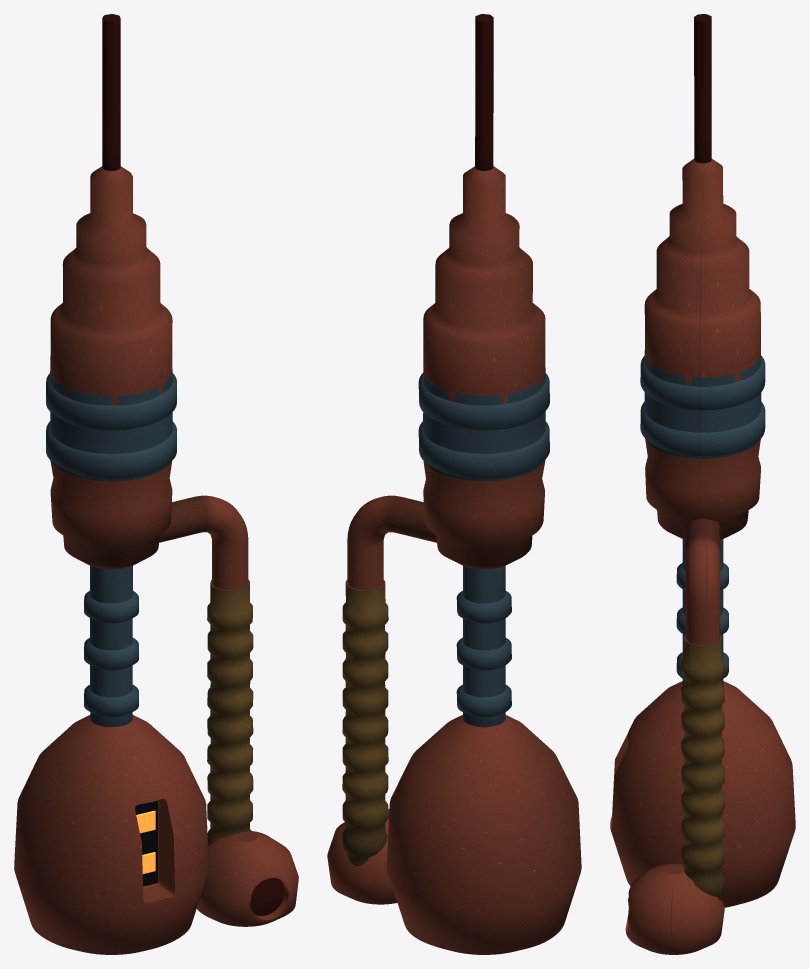
3 views of the same model, side by side, from view 1: azimuth 30°, elevation 25°; view 2: azimuth 150°, elevation 25°; view 3: azimuth 270°, elevation 25° (orthographic). The views are drawn at different scales.
Visible parts, largest first — view 1: AC15 main ground chamber, AC15 stepped coral receiver, AC15 ribbed ochre side column, AC15 right ground foot, AC15 supported coral return elbow, AC15 broad slate receiver belt, AC15 lower slate support, AC15 upper slate band 0, AC15 upper slate band 1, AC15 muted red needle, AC15 lower slate collar 1, AC15 lower slate collar 0 (+3 smaller); view 2: AC15 main ground chamber, AC15 stepped coral receiver, AC15 ribbed ochre side column, AC15 supported coral return elbow, AC15 broad slate receiver belt, AC15 lower slate support, AC15 upper slate band 1, AC15 upper slate band 0, AC15 right ground foot, AC15 muted red needle, AC15 lower slate collar 0, AC15 lower slate collar 1 (+1 smaller); view 3: AC15 stepped coral receiver, AC15 main ground chamber, AC15 ribbed ochre side column, AC15 right ground foot, AC15 supported coral return elbow, AC15 broad slate receiver belt, AC15 upper slate band 0, AC15 upper slate band 1, AC15 muted red needle, AC15 lower slate support.
Part boxes in pixels (box(x1,y1,x2,y2)): AC15 main ground chamber: box(14, 715, 208, 954); AC15 stepped coral receiver: box(50, 166, 172, 569); AC15 ribbed ochre side column: box(207, 579, 253, 844); AC15 right ground foot: box(196, 831, 298, 926); AC15 supported coral return elbow: box(159, 495, 248, 590); AC15 broad slate receiver belt: box(50, 369, 172, 481); AC15 lower slate support: box(90, 565, 132, 727); AC15 upper slate band 0: box(46, 421, 176, 478); AC15 upper slate band 1: box(46, 373, 176, 430); AC15 muted red needle: box(102, 14, 120, 170); AC15 lower slate collar 1: box(84, 638, 138, 670); AC15 lower slate collar 0: box(84, 685, 138, 717); AC15 main ground chamber: box(386, 715, 581, 954); AC15 stepped coral receiver: box(423, 166, 545, 569); AC15 ribbed ochre side column: box(342, 580, 388, 866); AC15 supported coral return elbow: box(347, 495, 436, 590); AC15 broad slate receiver belt: box(423, 368, 545, 481); AC15 lower slate support: box(463, 565, 505, 727); AC15 upper slate band 1: box(418, 373, 549, 430); AC15 upper slate band 0: box(418, 421, 549, 478); AC15 right ground foot: box(327, 809, 397, 904); AC15 muted red needle: box(475, 14, 493, 170); AC15 lower slate collar 0: box(456, 684, 511, 717); AC15 lower slate collar 1: box(456, 637, 511, 670); AC15 stepped coral receiver: box(644, 159, 760, 539); AC15 main ground chamber: box(610, 681, 795, 907); AC15 ribbed ochre side column: box(681, 635, 724, 900); AC15 right ground foot: box(625, 863, 724, 954); AC15 supported coral return elbow: box(685, 518, 720, 645); AC15 broad slate receiver belt: box(644, 350, 761, 458); AC15 upper slate band 0: box(640, 402, 765, 456); AC15 upper slate band 1: box(640, 355, 765, 410); AC15 muted red needle: box(694, 14, 711, 163); AC15 lower slate support: box(682, 539, 723, 684).
Size of the model in its own units: 1.89 by 6.6 by 1.28.
Materials: 6 (5 with a texture image).
